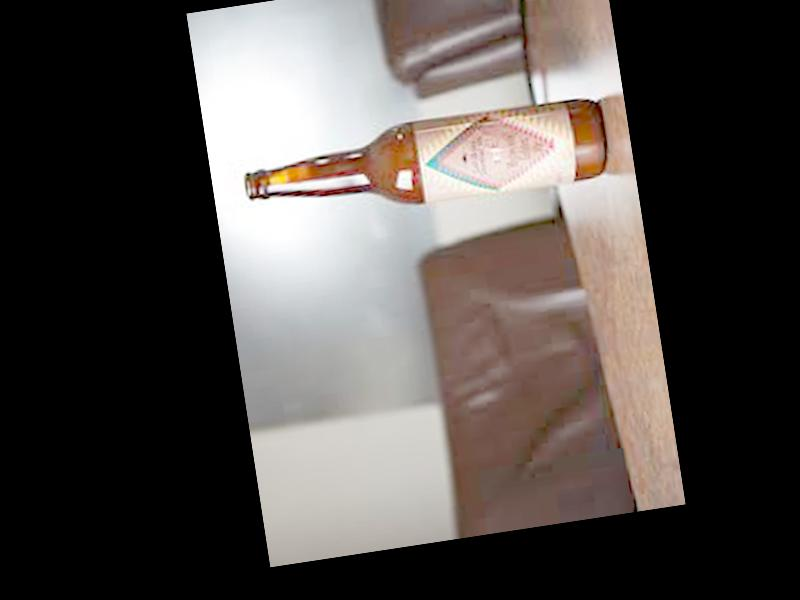Beer: (242, 95, 610, 227)
